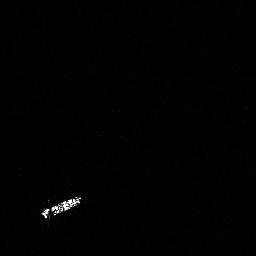ship: (39, 195, 82, 224)
